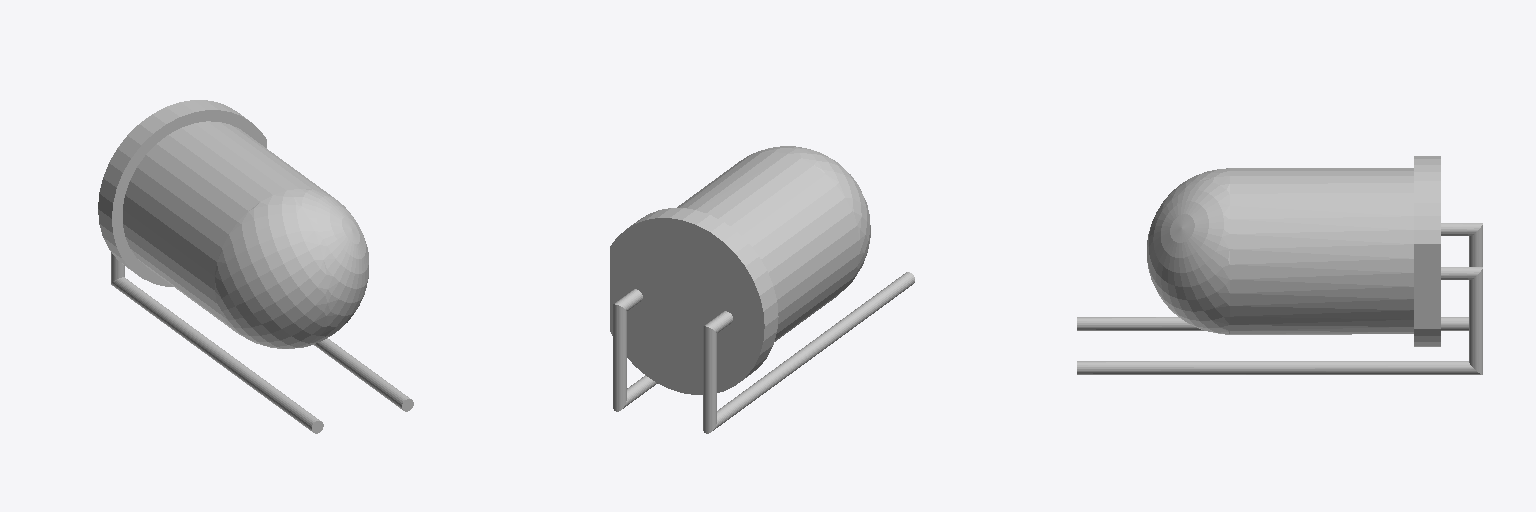
Rendered from LedBentLeads-CutRight-Green.obj.
3 renders of one model, left to right at view 1: azimuth 30°, elevation 25°; view 2: azimuth 150°, elevation 25°; view 3: azimuth 270°, elevation 25°, orthographic.
Visible parts, largest first — view 1: CapCathode, CapAnode, Cathode, Anode; view 2: CapCathode, CapAnode, Cathode, Anode; view 3: CapAnode, Anode, Cathode, CapCathode.
Boxes of the visible parts, x1,y1,x2,y2 form: CapCathode: [98, 102, 327, 348]; CapAnode: [181, 100, 368, 345]; Cathode: [111, 252, 323, 433]; Anode: [313, 338, 413, 411]; CapCathode: [682, 148, 870, 394]; CapAnode: [610, 146, 801, 392]; Cathode: [703, 272, 914, 433]; Anode: [613, 289, 657, 411]; CapAnode: [1147, 165, 1440, 346]; Anode: [1077, 267, 1482, 374]; Cathode: [1077, 223, 1482, 330]; CapCathode: [1147, 156, 1440, 240].
Size of the model in its own units: 5.15 by 5.95 by 11.7.